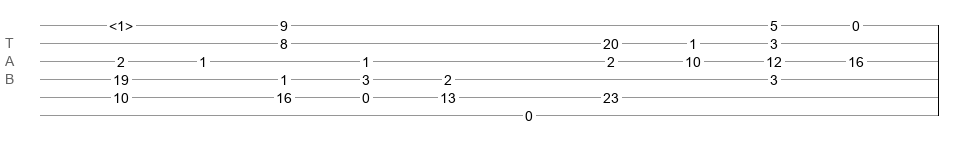0: (362, 90, 370, 100), (525, 108, 533, 118), (852, 18, 860, 28)
1: (199, 54, 207, 64), (280, 72, 288, 82), (362, 54, 370, 64), (689, 36, 697, 46)
10: (113, 90, 129, 100), (685, 54, 701, 64)
12: (766, 54, 782, 64)
13: (440, 90, 456, 100)
16: (276, 90, 292, 100), (848, 54, 864, 64)
19: (113, 72, 129, 82)
2: (117, 54, 125, 64), (444, 72, 452, 82), (607, 54, 615, 64)
20: (603, 36, 619, 46)
23: (603, 90, 619, 100)
3: (362, 72, 370, 82), (770, 36, 778, 46), (770, 72, 778, 82)
5: (770, 18, 778, 28)
8: (280, 36, 288, 46)
9: (280, 18, 288, 28)
harmonic: (109, 18, 133, 28)
